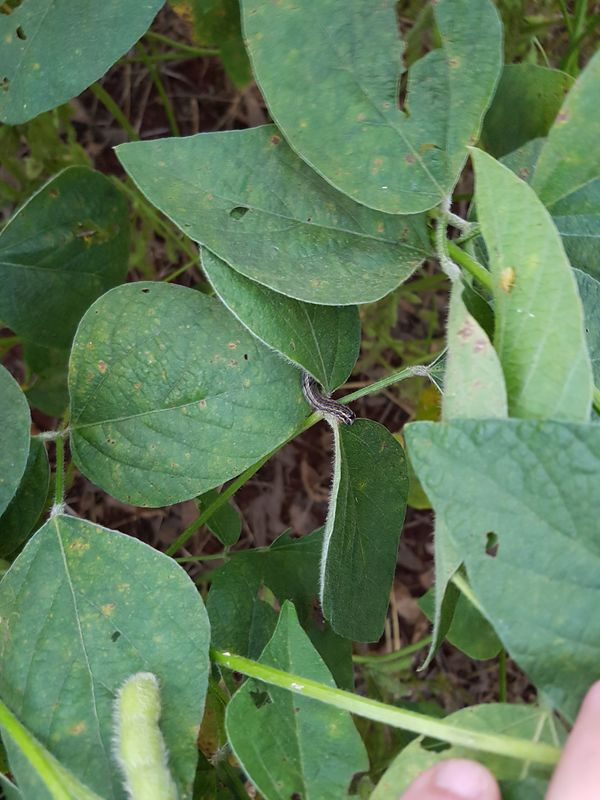Spodoptera_albula: (288, 361, 368, 437)
